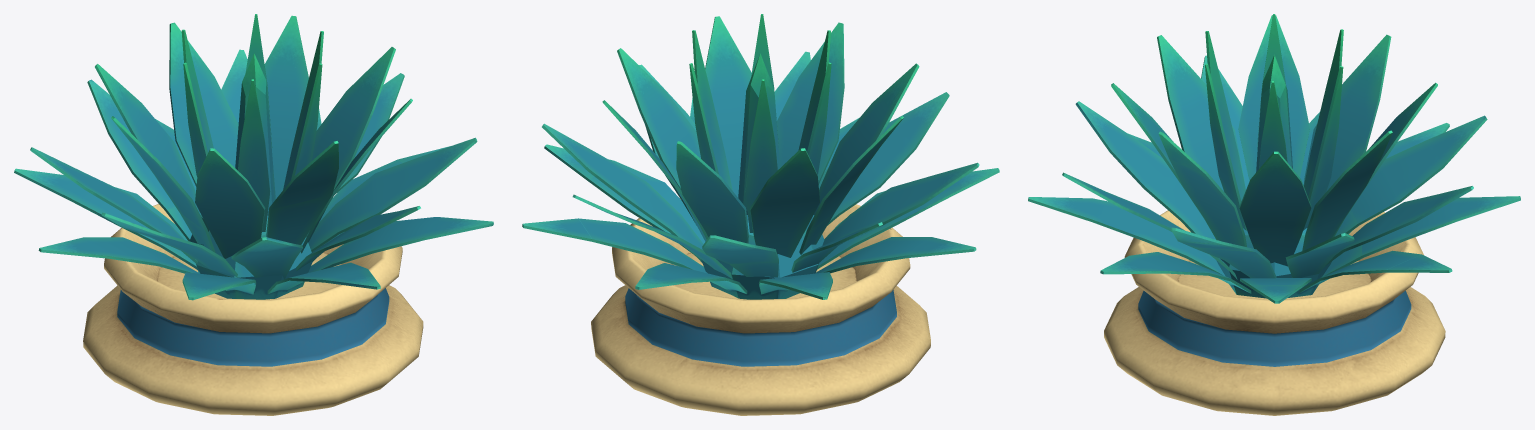
File: maceta.glb
3 renders of one model, left to right at view 1: azimuth 30°, elevation 25°; view 2: azimuth 150°, elevation 25°; view 3: azimuth 270°, elevation 25°, orthographic.
Visible parts, largest first — view 1: AGAVE02; view 2: AGAVE02; view 3: AGAVE02.
Part boxes in pixels (<box>): AGAVE02: <box>14,14,493,415</box>; AGAVE02: <box>522,14,999,415</box>; AGAVE02: <box>1028,14,1520,415</box>.
Size of the model in its own units: 1.5 by 1.06 by 1.5.
2 materials, 2 textured.
